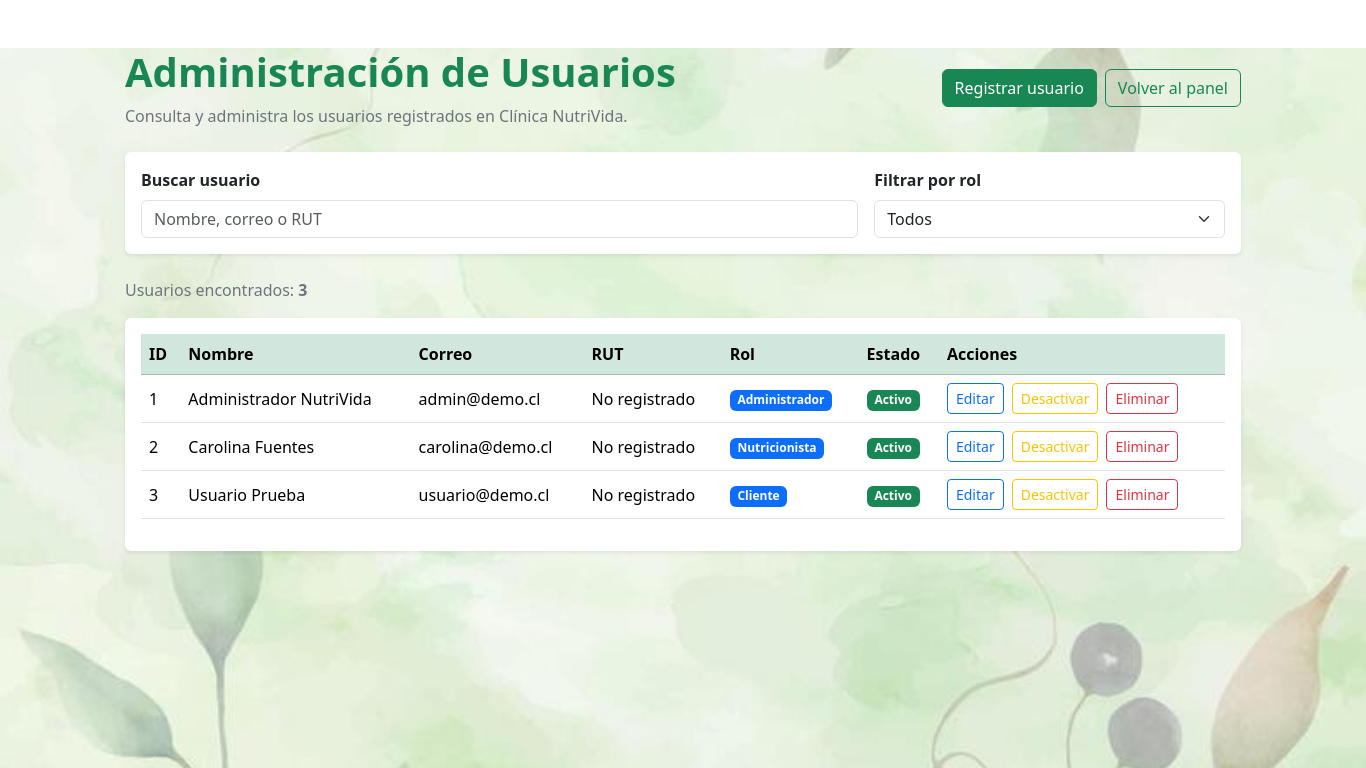
Scenario: Administración de usuarios › permite eliminar un usuario desde la tabla
Check: the text "Usuario Prueba" is shown, box [188,484,305,506]
Click the button "Eliminar" in the row of "Usuario Prueba" at (1142, 494), box [1106,479,1178,510]
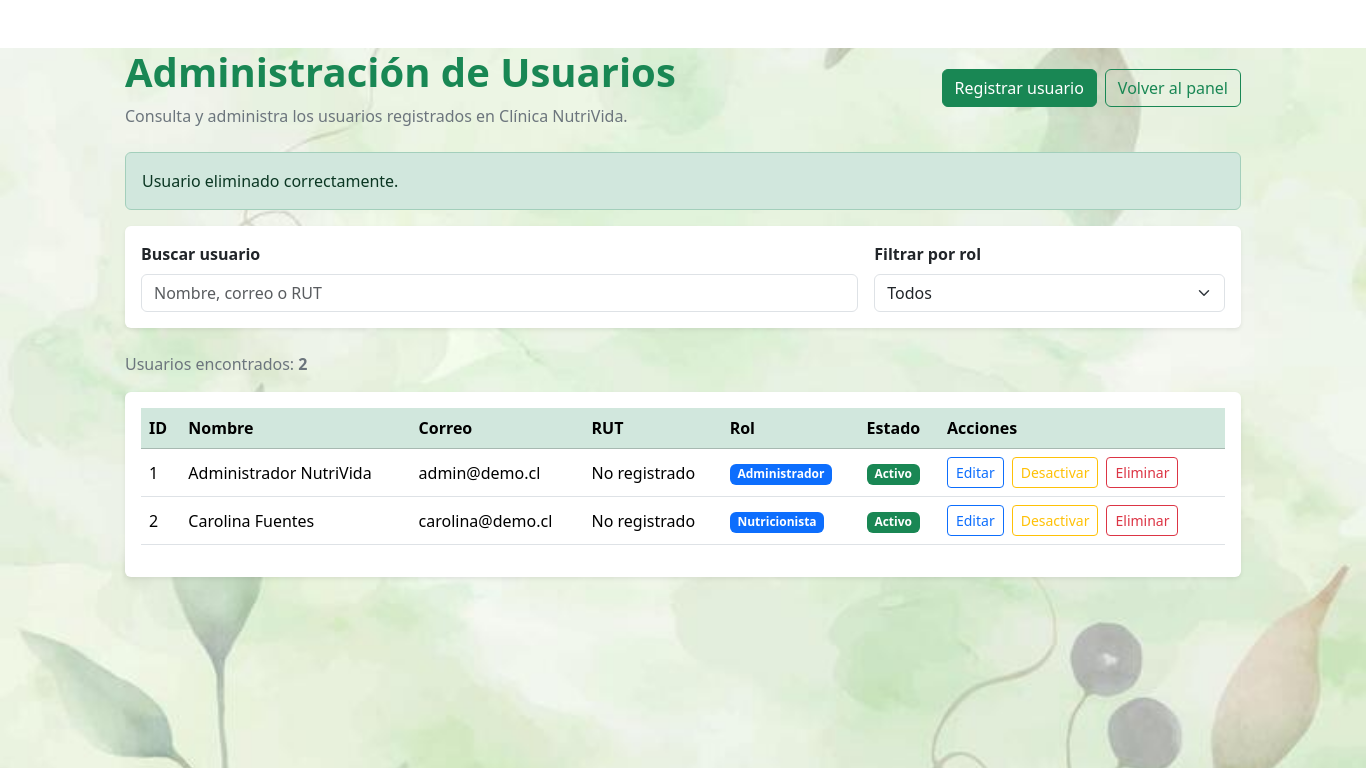
Check: the text "Usuario eliminado correctamente." is shown, box [125,152,1241,210]
Check: the text "Usuario Prueba" is gone
